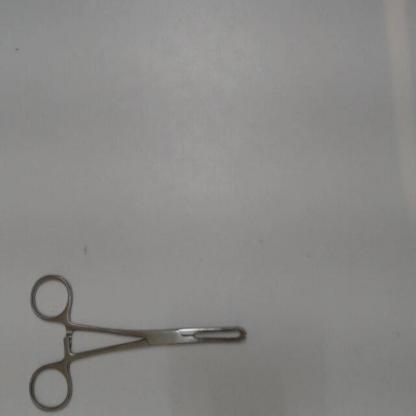Allis Tissue Forceps: (25, 262, 252, 412)
